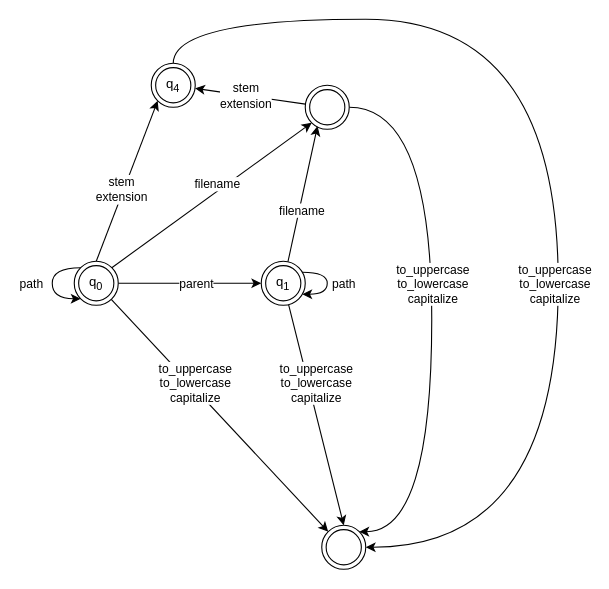
Image size: 609x589. Some labels were removed from this diagram. The centre of each missing label's shape, as x and y in pixels:
"q 2" goes at (x=326, y=106).
"q 3" goes at (x=343, y=546).
